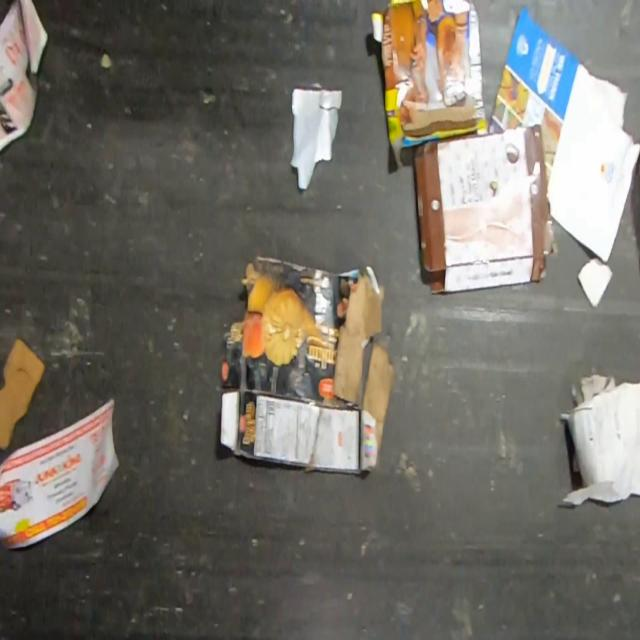cardboard: (218, 252, 396, 477), (412, 122, 557, 294), (370, 0, 490, 169), (0, 336, 46, 452)
